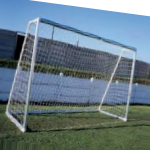goals: (5, 16, 138, 137)
